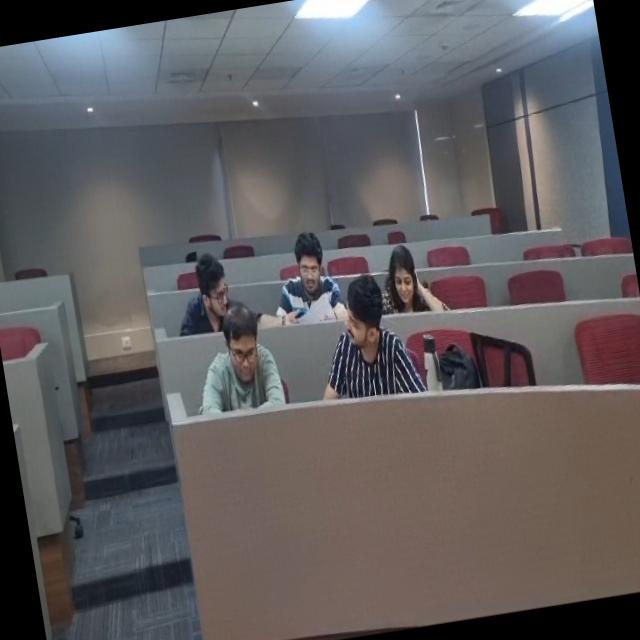cheating: (164, 241, 297, 343), (321, 268, 412, 406)
non-cheating: (204, 295, 286, 418), (268, 224, 346, 329), (370, 235, 450, 322)
